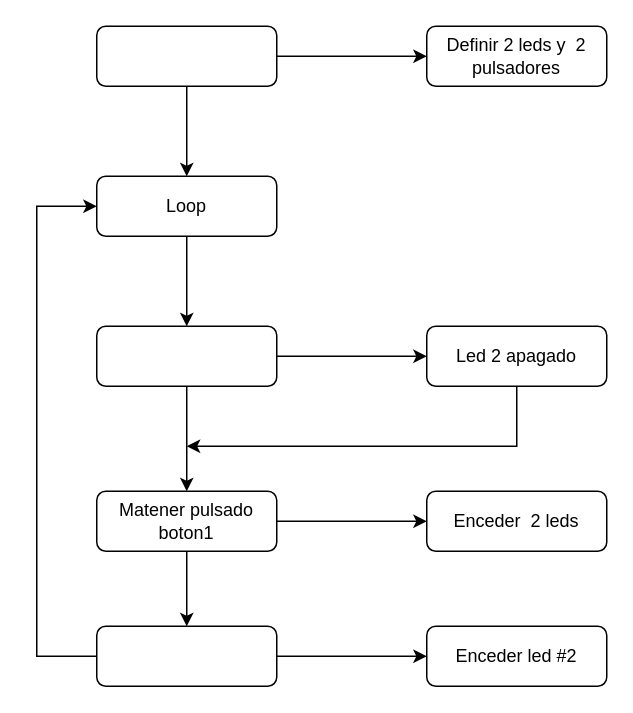
The diagram is 633 pixels wide and 713 high, and some of its shapes have lost their labels. Here are the shapes that lost their labels. From the top down, the centre of each, then its label:
At pixel 186 55: "Setup".
At pixel 186 355: "Led 1 apagado".
At pixel 186 655: "Manter pulsado boton 2".
